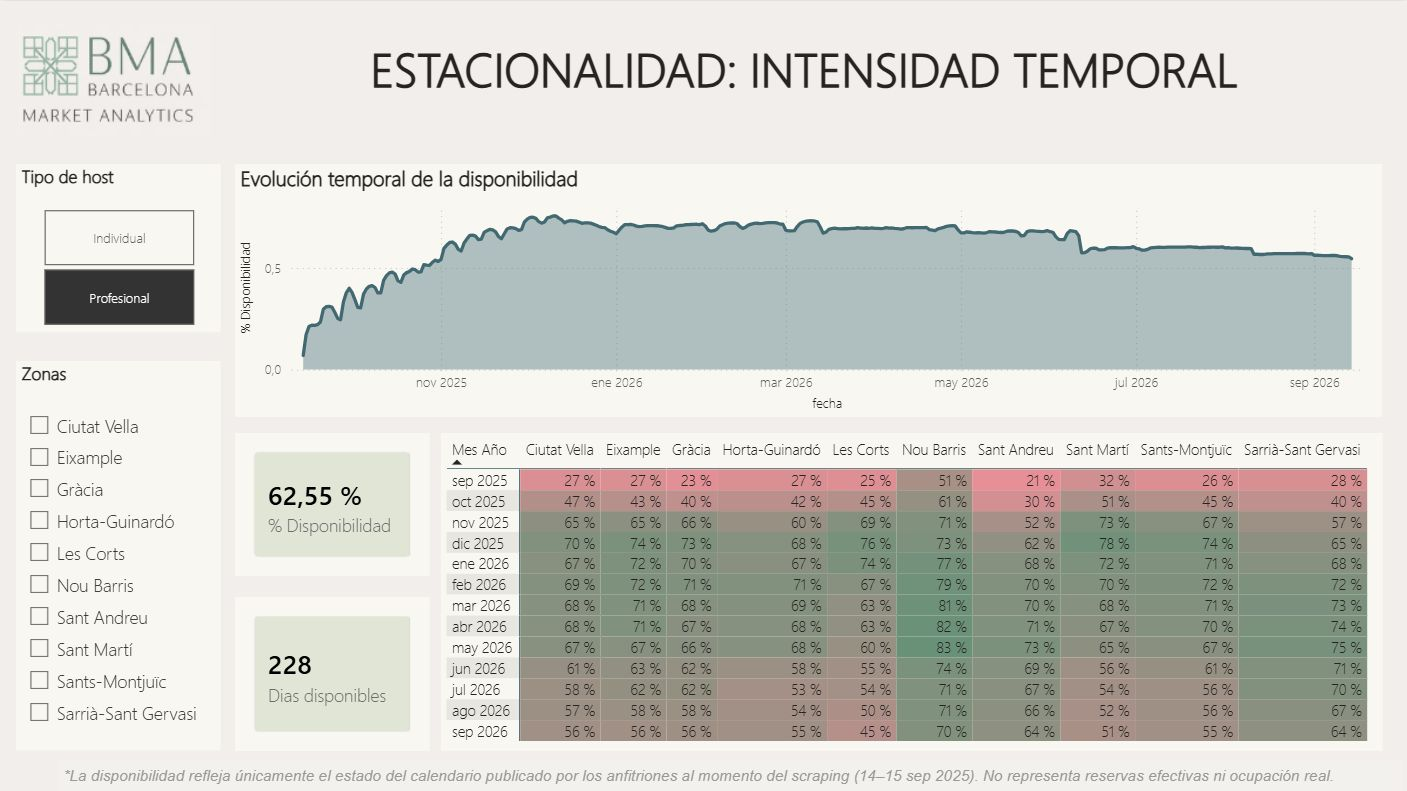

This screenshot's page, from the dashboard's own definition file:
{"tool":"powerbi","page":{"name":"Página 4","canvas":[1280,720],"ordinal":4},"visuals":[{"type":"slicer","title":"Tipo de host","fields":{"Values":["airbnb_barcelona_2025 dim_host.tipo_host"]},"box":[14.9,148.3,186.1,153.3],"z":0},{"type":"slicer","title":"Zonas","fields":{"Values":["airbnb_barcelona_2025 dim_barrio.zona"]},"box":[14.9,327.5,186.1,354.3],"z":1000},{"type":"cardVisual","fields":{"Data":["Medidas.% Disponibilidad"]},"box":[214,393.2,177.2,130.4],"z":2000},{"type":"cardVisual","fields":{"Data":["Medidas.Promedio Días Disponibles por Anuncio"]},"box":[214,541.5,177.2,140.3],"z":3000},{"type":"lineChart","title":"Evolución temporal de la disponibilidad","fields":{"Category":["airbnb_barcelona_2025 fact_disponibilidad.fecha"],"Y":["Medidas.% Disponibilidad"]},"box":[214,148.3,1043.1,229.9],"z":4000},{"type":"textbox","box":[52.4,690.1,1221.6,29.8],"z":5000},{"type":"pivotTable","fields":{"Values":["Medidas.% Disponibilidad"],"Columns":["airbnb_barcelona_2025 dim_barrio.zona"],"Rows":["Calendario.Mes Año"]},"box":[401.1,393.2,856,288.6],"z":6000},{"type":"textbox","box":[183.1,26.9,1096.9,73.7],"z":7000}]}

Visuals, with their boxes in screenshot pixels (x1, y1, x2, y2), scaled from the page's 1280x720 canvas onto the 1407x791 screenshot:
"Tipo de host" slicer: l=16, t=163, r=221, b=331
"Zonas" slicer: l=16, t=360, r=221, b=749
cardVisual - Medidas.% Disponibilidad: l=235, t=432, r=430, b=575
cardVisual - Medidas.Promedio Días Disponibles por Anuncio: l=235, t=595, r=430, b=749
"Evolución temporal de la disponibilidad" lineChart: l=235, t=163, r=1382, b=415
textbox: l=58, t=758, r=1400, b=790
pivotTable - Medidas.% Disponibilidad x airbnb_barcelona_2025 dim_barrio.zona: l=441, t=432, r=1382, b=749
textbox: l=201, t=30, r=1406, b=111
